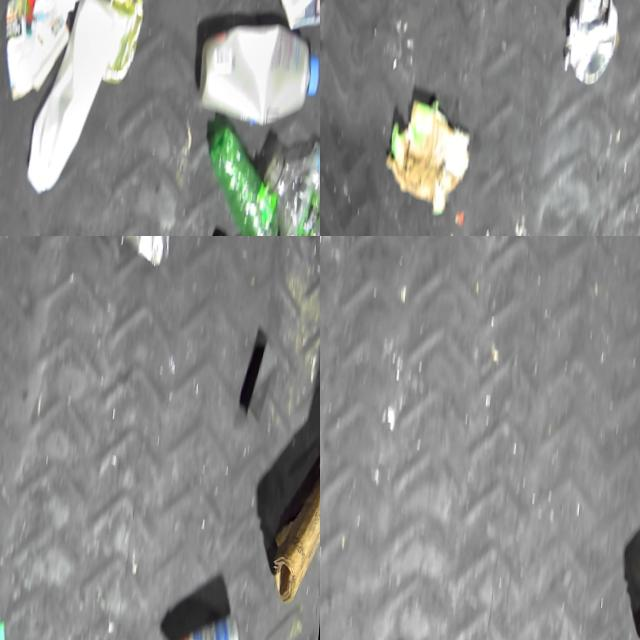can: (562, 0, 624, 80), (168, 592, 266, 640), (101, 0, 150, 83), (112, 236, 176, 259)
non_white_jug: (26, 0, 139, 203)
plastic_bottle: (255, 119, 320, 236)
